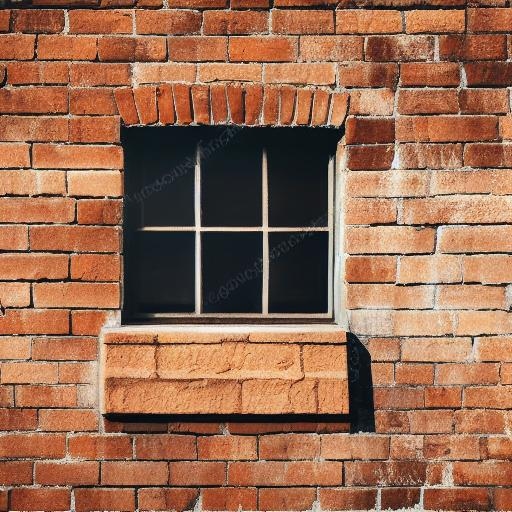Window: (107, 84, 357, 433)
